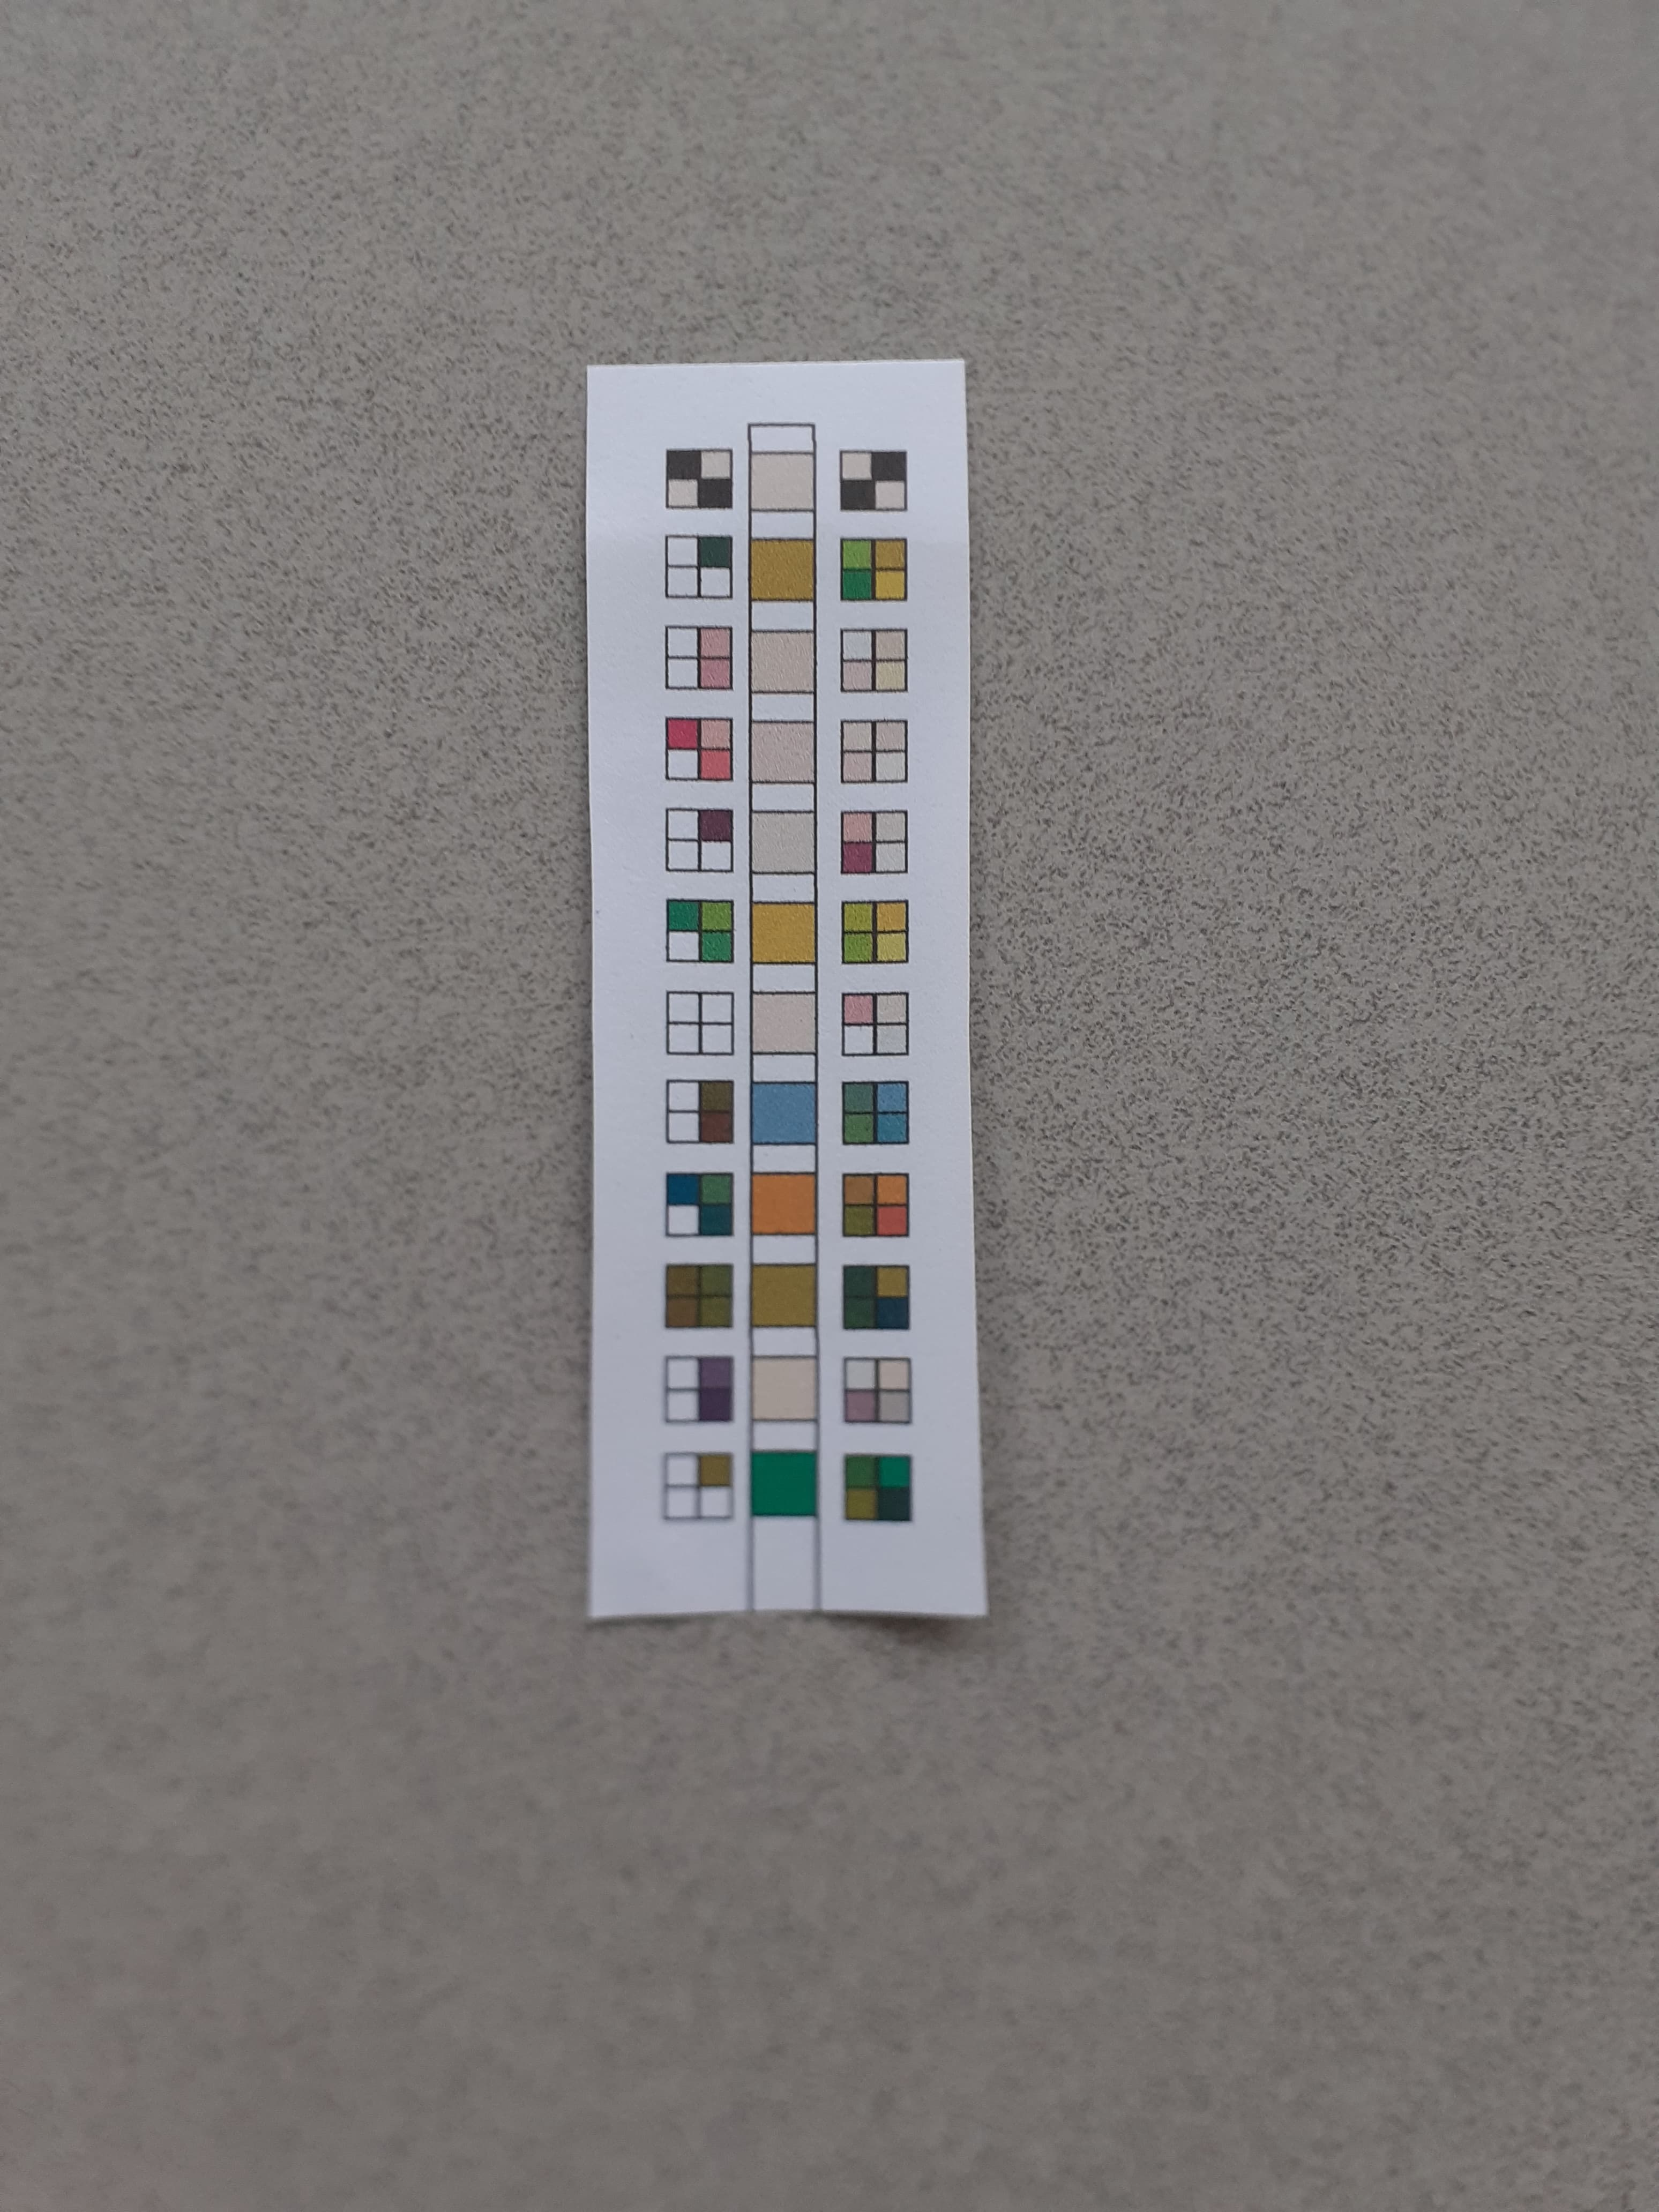tester: (579, 359, 992, 1630)
